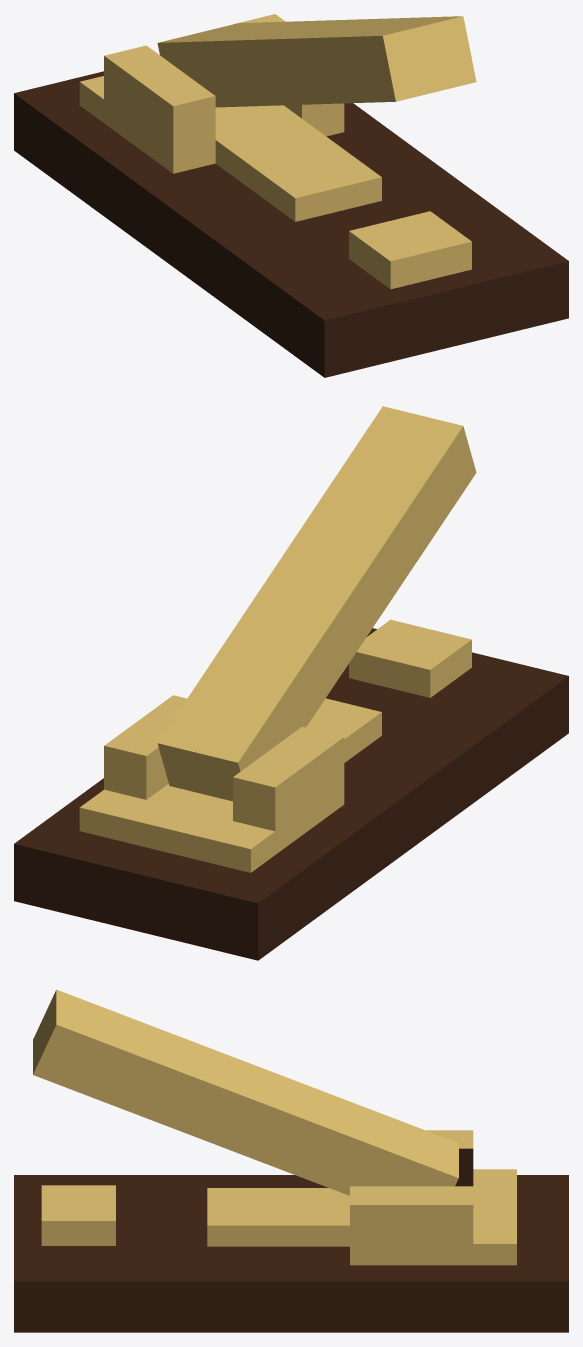
The model's file is telegraph.fbx.
3 renders of one model, top to bottom at view 1: azimuth 30°, elevation 25°; view 2: azimuth 150°, elevation 25°; view 3: azimuth 270°, elevation 25°, orthographic. The views are drawn at different scales.
Parts seen in each view (by area): view 1: Cube, Cube.001; view 2: Cube, Cube.001; view 3: Cube, Cube.001.
Boxes of the visible parts, x1,y1,x2,y2 form: Cube: [14, 14, 568, 377]; Cube.001: [157, 16, 476, 107]; Cube: [14, 619, 568, 960]; Cube.001: [157, 406, 476, 801]; Cube: [14, 1130, 568, 1332]; Cube.001: [33, 989, 458, 1195].
Size of the model in its own units: 17.32 by 20.65 by 38.16.
